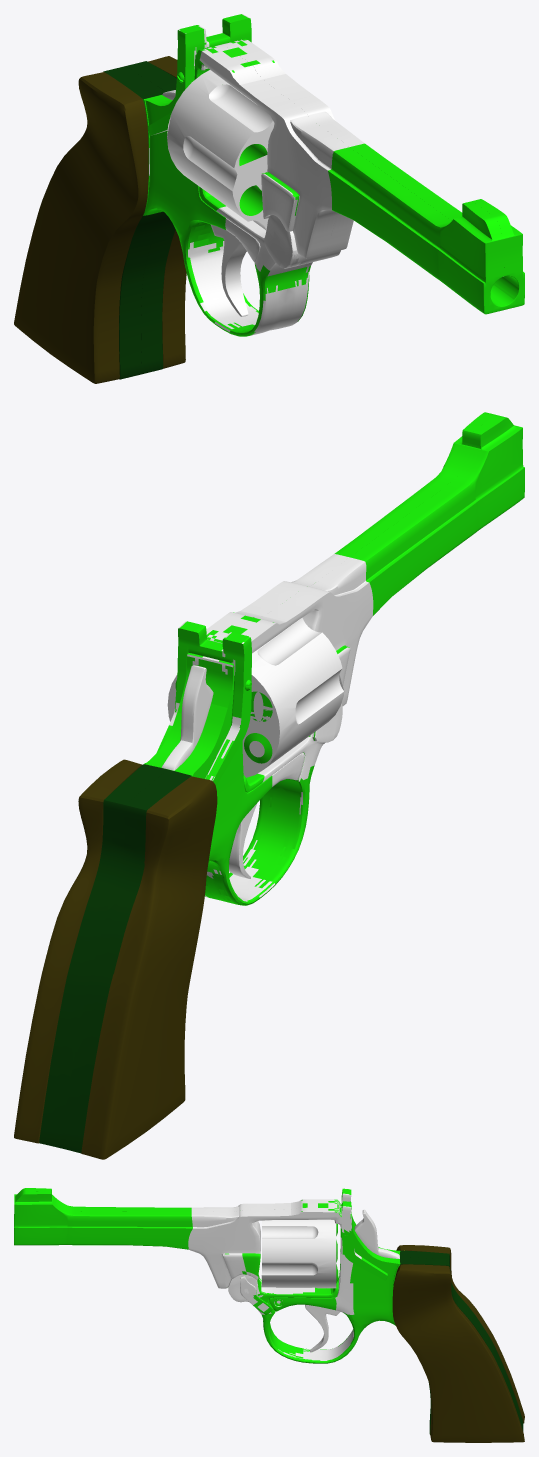
The model's file is Piistola.fbx.
The picture shows the model from 3 angles, top to bottom: view 1: azimuth 30°, elevation 25°; view 2: azimuth 150°, elevation 25°; view 3: azimuth 270°, elevation 25°; orthographic projection. The views are drawn at different scales.
Visible parts, largest first — view 1: Mango, Punta, Union1, P_Barril, Union2, Marcogatillo2, Union8, P_Basebarril3, Union9, Gatillo, Union3, Marcogatillo3 (+3 smaller); view 2: Mango, Punta, P_Barril, Union1, Union2, Union8, Marcogatillo, Gatillo2, Union6, P_Basebarril3, Marcogatillo3, Union3 (+1 smaller); view 3: Mango, Punta, P_Barril, Union1, Union6, Union8, Marcogatillo, relleno2, Union4, Gatillo2, P_Basebarrill6, Marcogatillo2 (+3 smaller).
Part boxes in pixels (x1=…): Mango: x1=14, y1=56, x2=186, y2=383; Punta: x1=328, y1=143, x2=524, y2=314; Union1: x1=240, y1=74, x2=364, y2=258; P_Barril: x1=167, y1=70, x2=274, y2=229; Union2: x1=142, y1=30, x2=211, y2=304; Marcogatillo2: x1=188, y1=241, x2=308, y2=335; Union8: x1=177, y1=14, x2=299, y2=229; P_Basebarril3: x1=216, y1=206, x2=312, y2=293; Union9: x1=261, y1=171, x2=312, y2=268; Gatillo: x1=210, y1=224, x2=248, y2=316; Union3: x1=178, y1=26, x2=262, y2=91; Marcogatillo3: x1=143, y1=212, x2=310, y2=336; Mango: x1=14, y1=759, x2=217, y2=1159; Punta: x1=334, y1=412, x2=524, y2=615; P_Barril: x1=167, y1=617, x2=344, y2=777; Union1: x1=240, y1=554, x2=373, y2=706; Union2: x1=176, y1=637, x2=251, y2=904; Union8: x1=175, y1=612, x2=349, y2=900; Marcogatillo: x1=205, y1=779, x2=302, y2=903; Gatillo2: x1=162, y1=665, x2=213, y2=770; Union6: x1=144, y1=703, x2=233, y2=779; P_Basebarril3: x1=258, y1=719, x2=336, y2=814; Marcogatillo3: x1=206, y1=765, x2=314, y2=905; Union3: x1=210, y1=616, x2=286, y2=675; Mango: x1=392, y1=1245, x2=524, y2=1442; Punta: x1=14, y1=1188, x2=192, y2=1249; P_Barril: x1=261, y1=1219, x2=336, y2=1288; Union1: x1=188, y1=1203, x2=291, y2=1288; Union6: x1=349, y1=1234, x2=400, y2=1346; Union8: x1=225, y1=1189, x2=363, y2=1314; Marcogatillo: x1=262, y1=1309, x2=354, y2=1363; relleno2: x1=335, y1=1237, x2=361, y2=1314; Union4: x1=291, y1=1205, x2=351, y2=1232; Gatillo2: x1=354, y1=1209, x2=399, y2=1258; P_Basebarrill6: x1=221, y1=1253, x2=246, y2=1302; Marcogatillo2: x1=263, y1=1327, x2=353, y2=1360.
Size of the model in its own units: 55.18 by 195 by 379.
